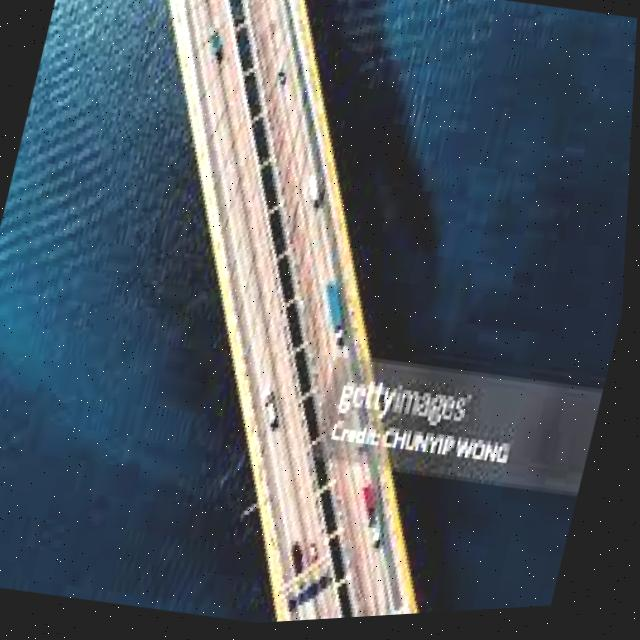truck: (314, 281, 361, 352), (357, 488, 401, 556)
